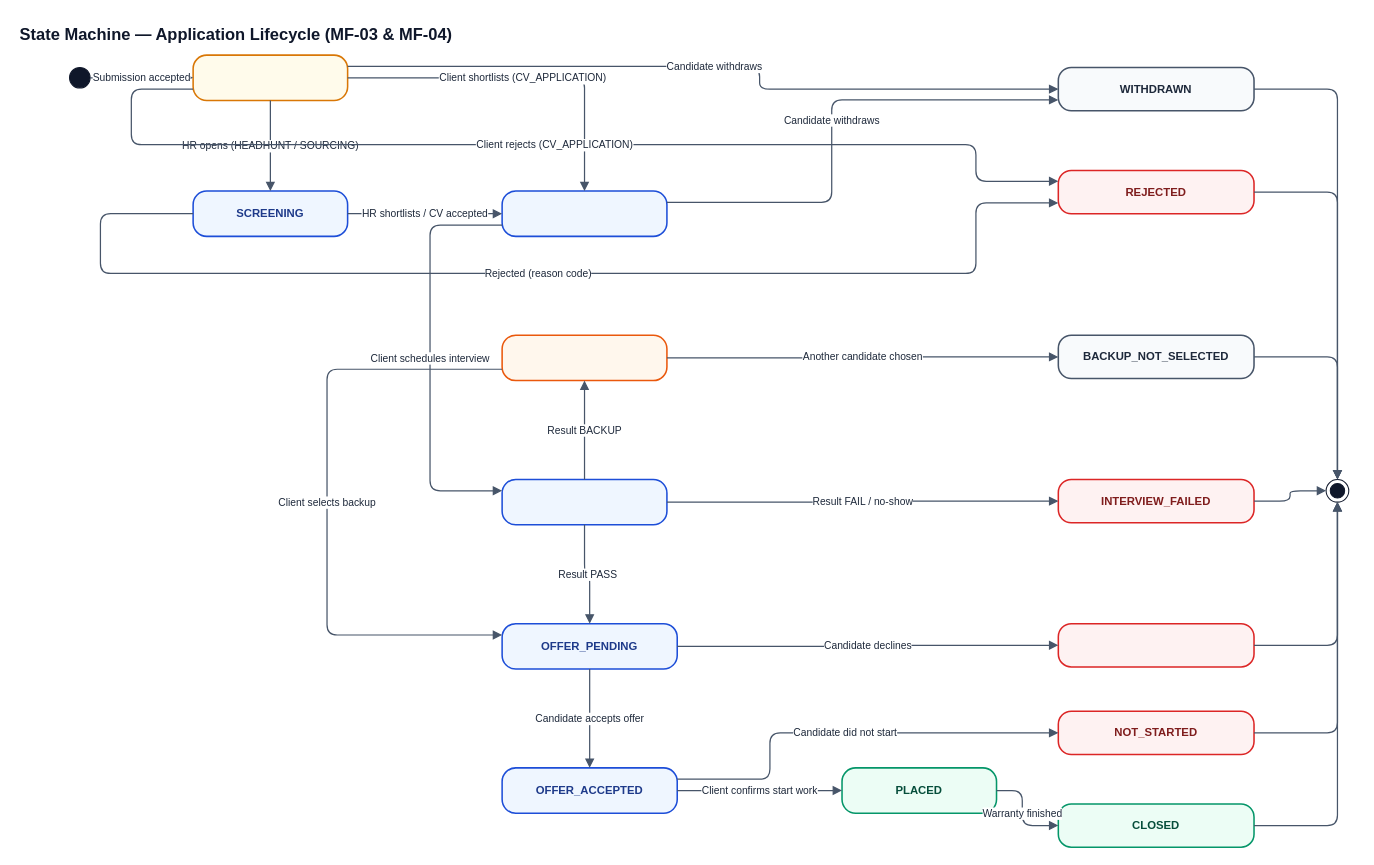
The diagram is 1374 pixels wide and 865 high, and some of its shapes have lost their labels. Each missing label, with the box of its shape:
BACKUP: (501, 334, 667, 381)
INTERVIEW: (501, 478, 667, 525)
OFFER_DECLINED: (1057, 622, 1254, 667)
SHORTLISTED: (501, 190, 667, 237)
SUBMITTED: (192, 54, 348, 101)
